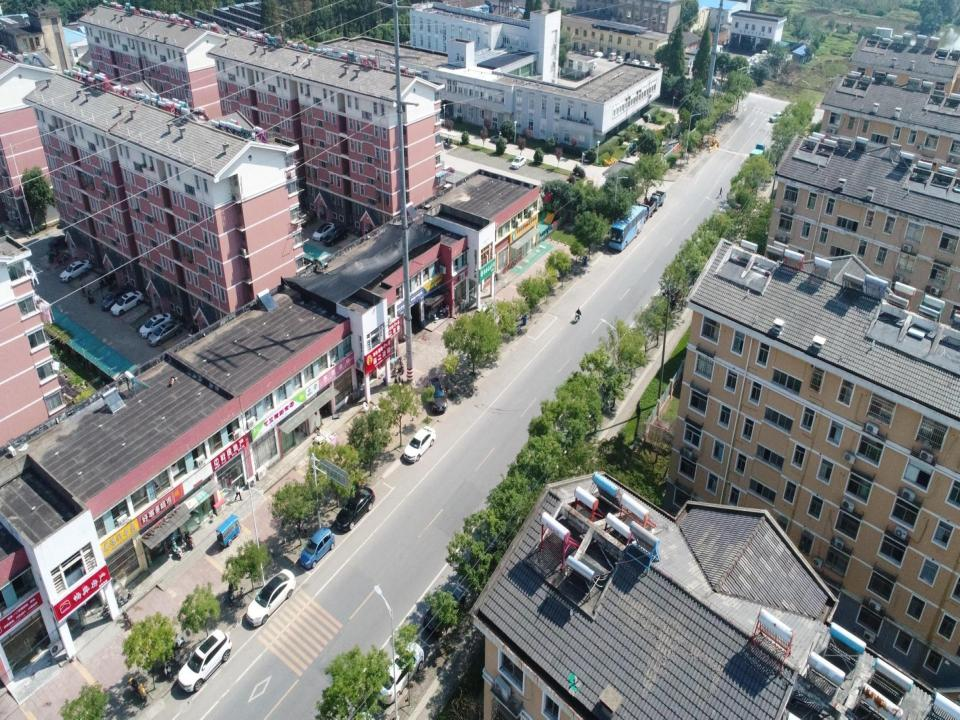bus: (608, 204, 645, 251)
car: (177, 628, 232, 692), (374, 641, 424, 705), (246, 569, 296, 628), (423, 584, 466, 636), (335, 486, 376, 533), (299, 525, 335, 569), (404, 425, 436, 463), (325, 686, 360, 719), (110, 289, 145, 317), (147, 320, 182, 347), (138, 312, 172, 339), (598, 366, 623, 402), (100, 285, 133, 312), (59, 259, 94, 283), (427, 377, 447, 413), (323, 225, 347, 247), (312, 222, 336, 242), (474, 302, 494, 322), (48, 234, 70, 252), (665, 287, 681, 309), (728, 202, 742, 219), (511, 155, 526, 170), (769, 111, 787, 123), (490, 134, 508, 146), (300, 213, 313, 228), (439, 164, 455, 176), (703, 77, 719, 87), (594, 50, 606, 58), (640, 60, 650, 68), (616, 56, 625, 63), (632, 59, 640, 65), (626, 57, 633, 63)
truck: (677, 52, 696, 76), (638, 198, 656, 222), (649, 188, 666, 211)
van: (608, 52, 617, 62), (587, 48, 596, 56)
